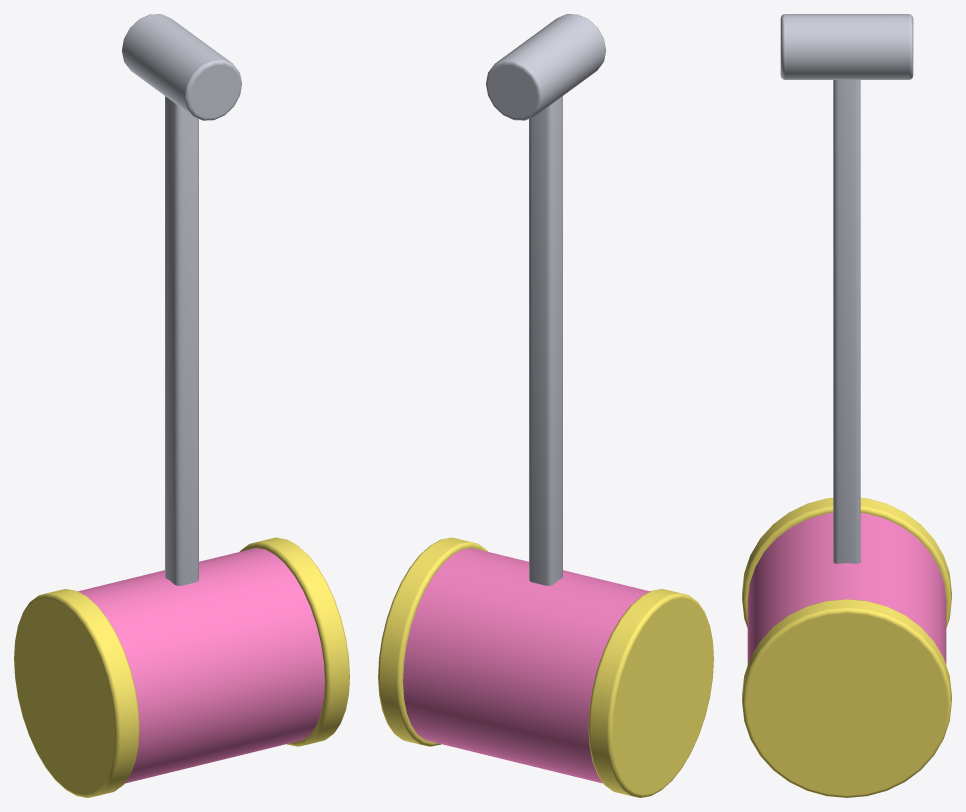
File: hammer.glb
3 views of the same model, side by side, from view 1: azimuth 30°, elevation 25°; view 2: azimuth 150°, elevation 25°; view 3: azimuth 270°, elevation 25° (orthographic).
Parts seen in each view (by area): view 1: HammerHead, HammerCapL, HammerArm, HammerPivot, HammerCapR; view 2: HammerHead, HammerCapL, HammerArm, HammerPivot, HammerCapR; view 3: HammerCapR, HammerHead, HammerArm, HammerPivot, HammerCapL.
Part boxes in pixels (bbox=[...]): HammerHead: bbox=[78, 548, 324, 783]; HammerCapL: bbox=[14, 589, 139, 797]; HammerArm: bbox=[165, 96, 198, 585]; HammerPivot: bbox=[122, 14, 241, 120]; HammerCapR: bbox=[239, 537, 349, 746]; HammerHead: bbox=[403, 548, 649, 783]; HammerCapL: bbox=[588, 589, 713, 797]; HammerArm: bbox=[529, 96, 562, 585]; HammerPivot: bbox=[486, 14, 605, 120]; HammerCapR: bbox=[378, 537, 488, 746]; HammerCapR: bbox=[742, 599, 951, 797]; HammerHead: bbox=[747, 513, 946, 664]; HammerArm: bbox=[833, 80, 860, 563]; HammerPivot: bbox=[780, 14, 913, 79]; HammerCapL: bbox=[742, 498, 951, 627].
Bounding box in the file's own units: 2.45 × 7.25 × 1.9.
